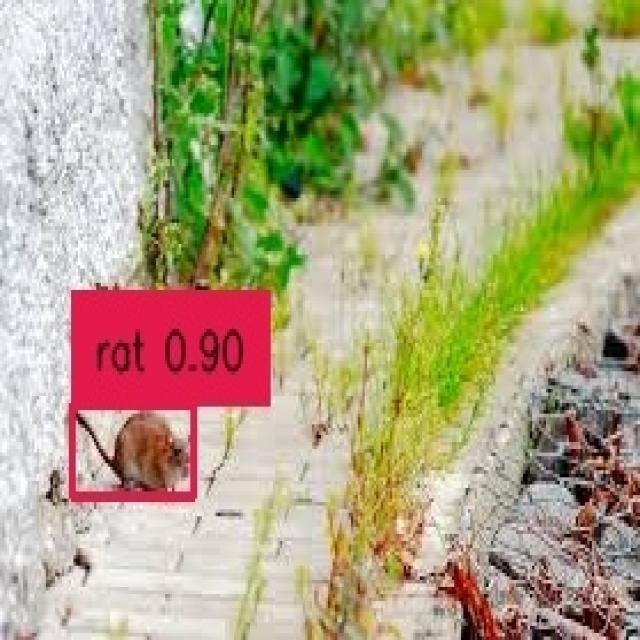rat: (69, 399, 190, 492)
